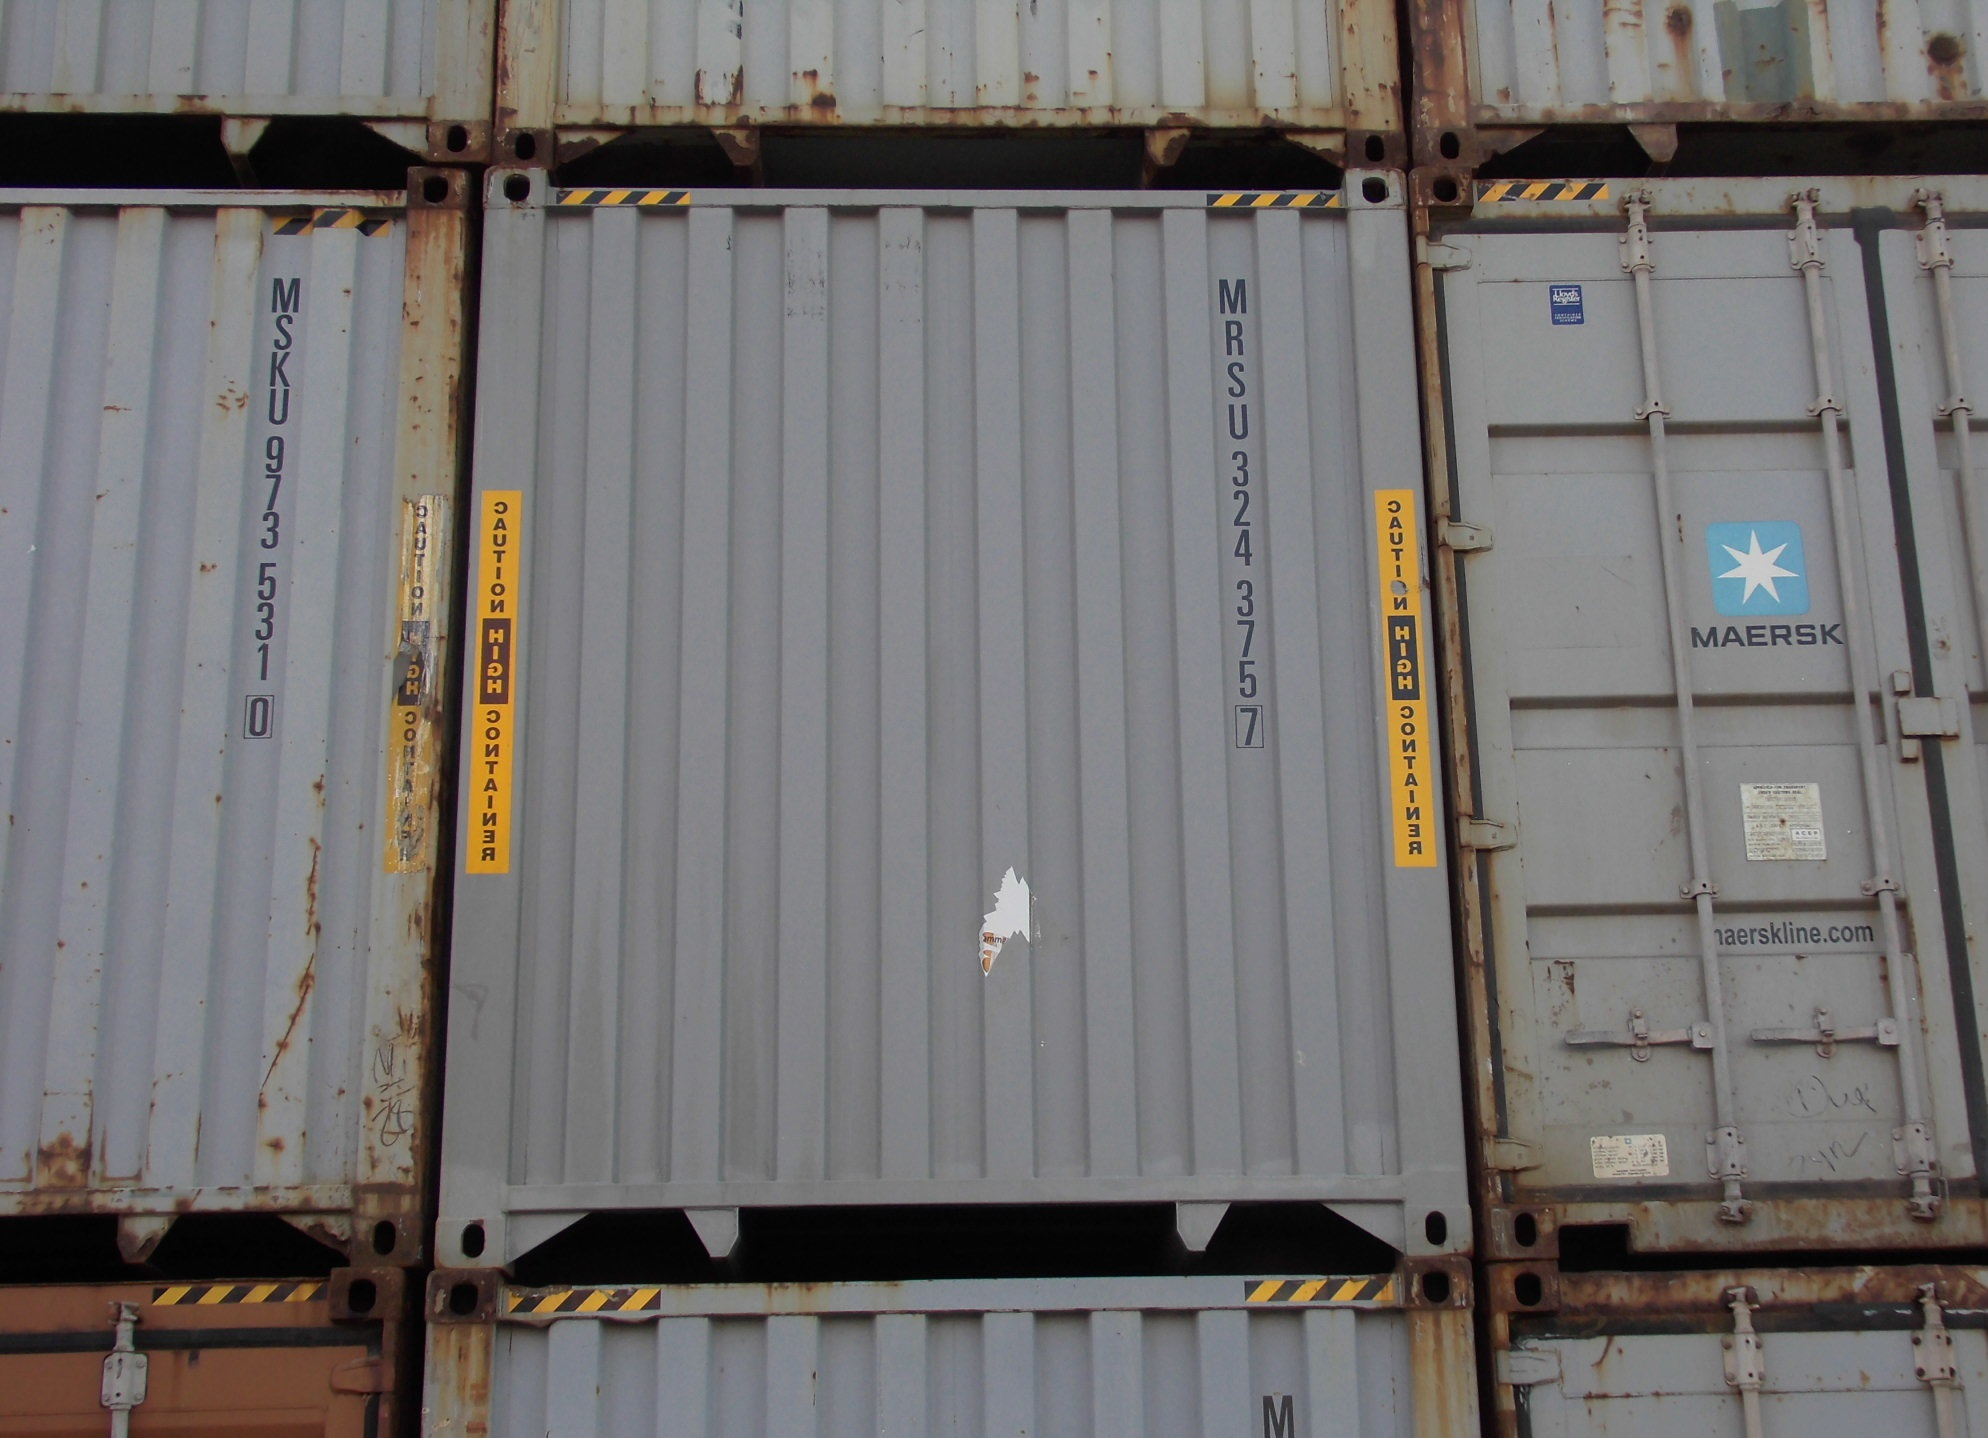container_door: (1414, 164, 1979, 1257)
container_no_door: (428, 168, 1409, 1267), (2, 181, 420, 1267)
